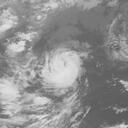cyclone: (38, 48, 85, 98)
